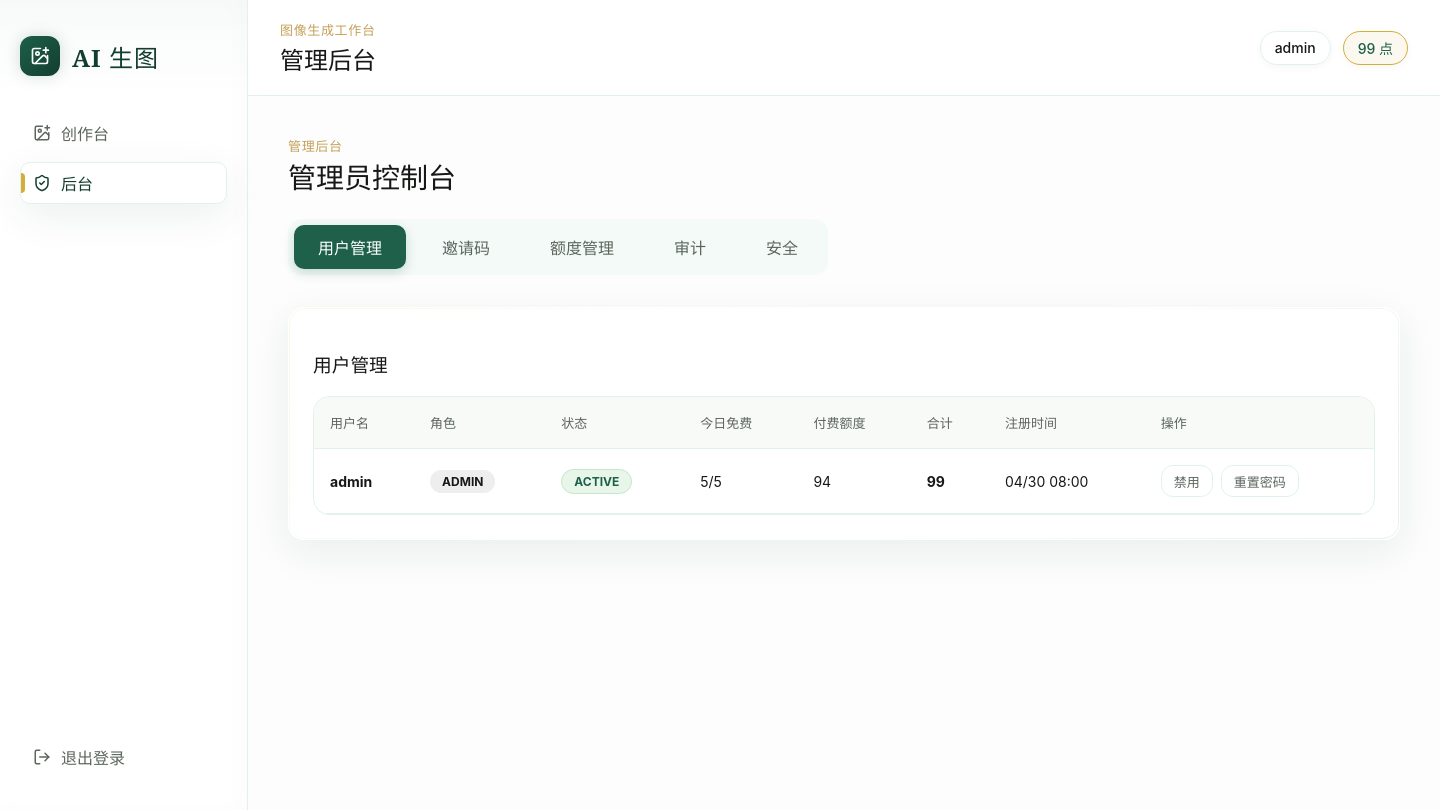
Scenario: App › updates displayed current-user credits after admin adjusts own credits
Expected: the text "99 点" is shown, [1343,30,1408,64]
Click the tab "额度管理" at (582, 247), box [526,225,638,269]
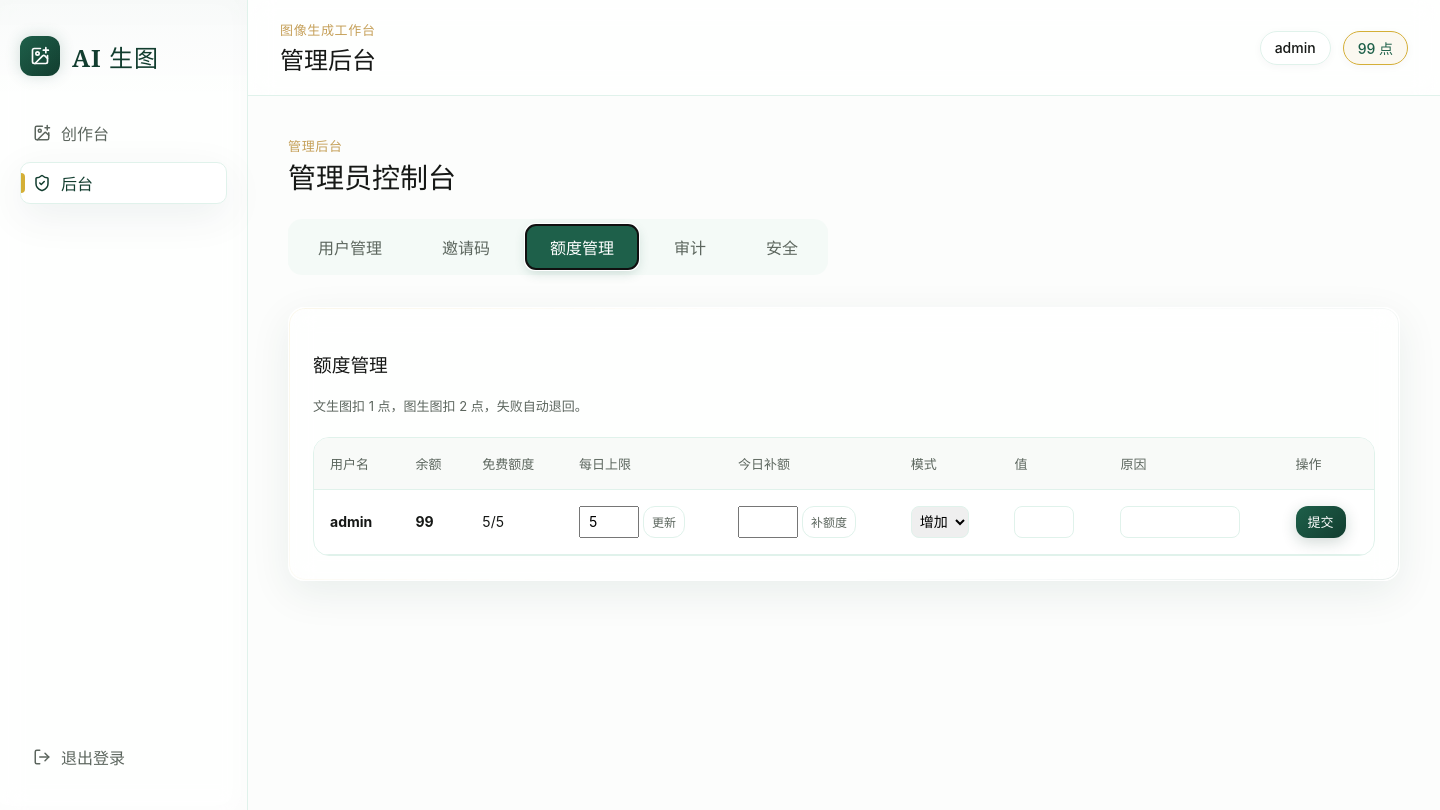
Type "3" into the number field named "调整 admin 的积分" at (1044, 522), box [1014,506,1074,538]
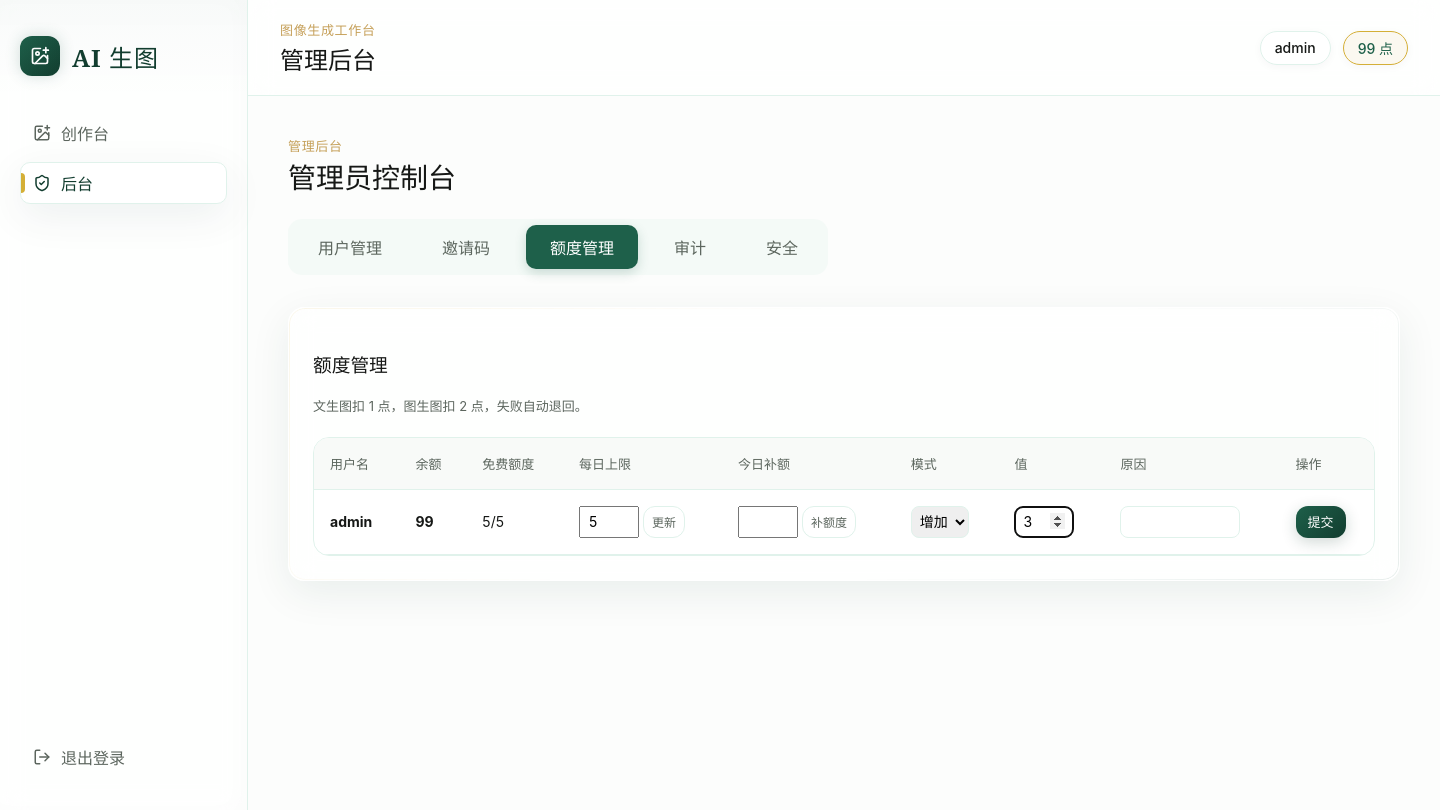
Type "自测补额" into the field named "调整 admin 的原因" at (1180, 522), box [1120,506,1240,538]
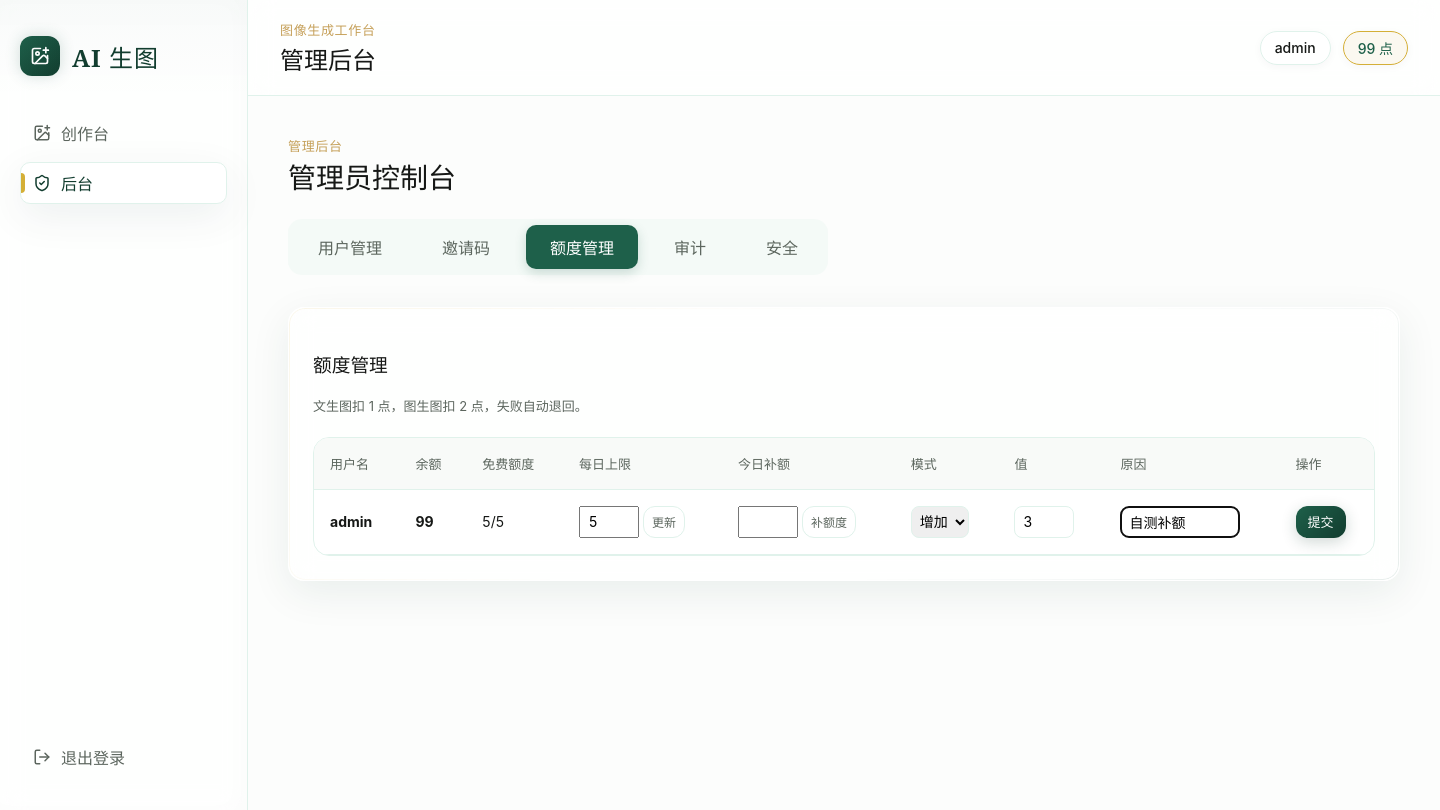
Click the button "提交" at (1320, 522), box [1296,506,1346,538]
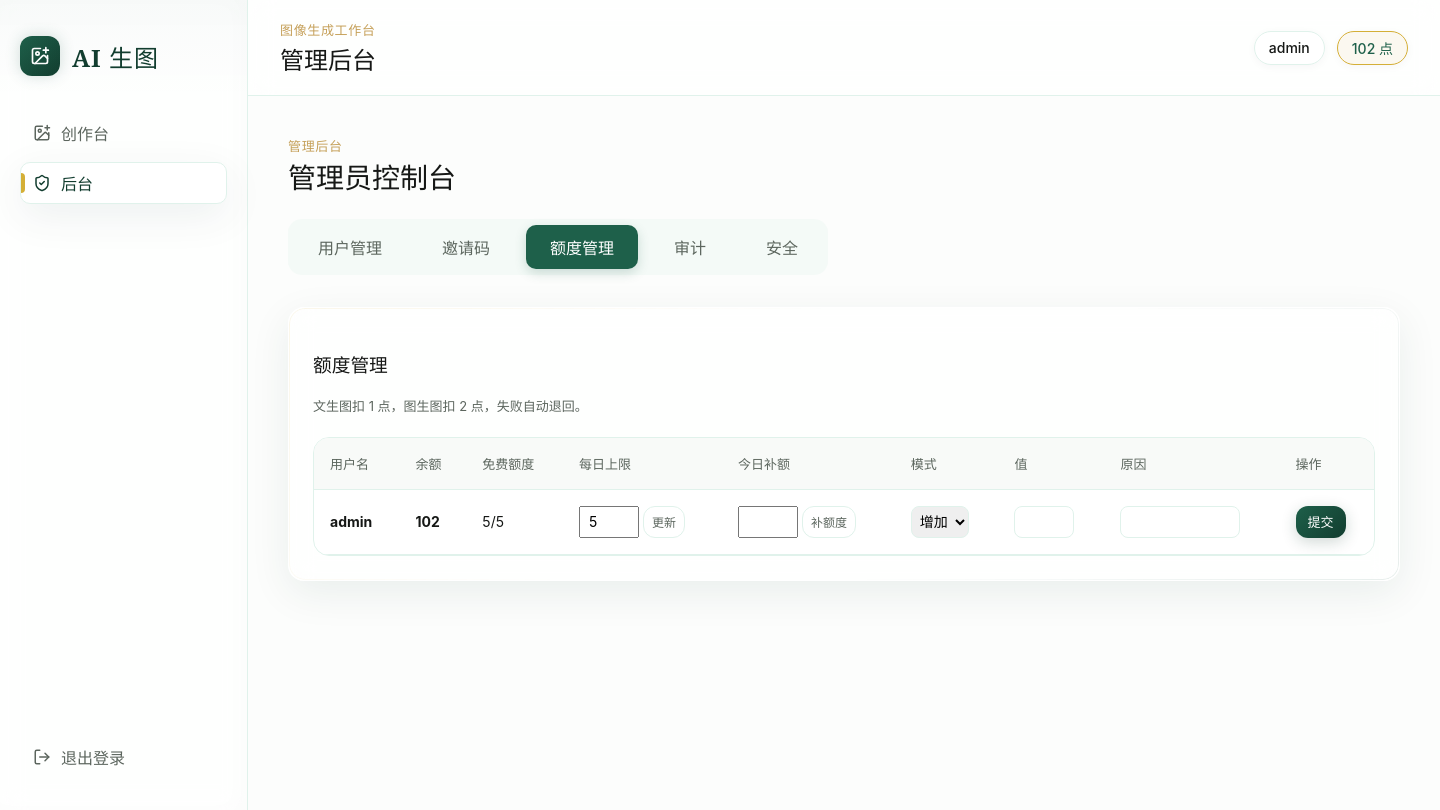
Result: the text "102 点" is shown at [1337,30,1408,64]
